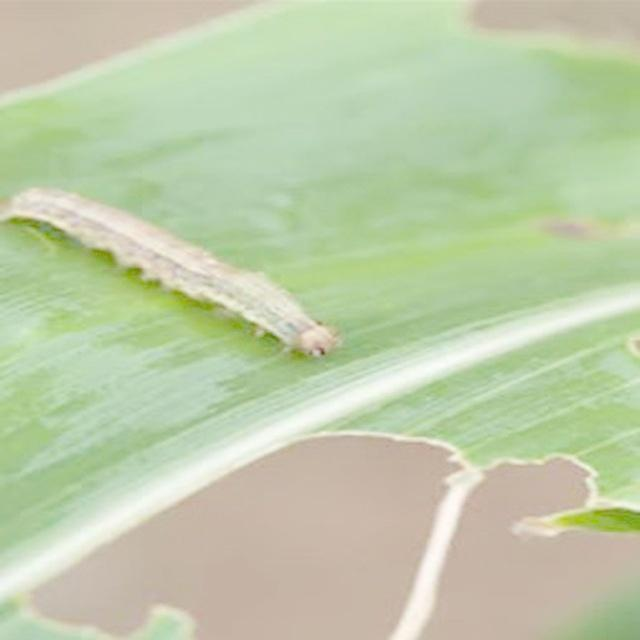gusano_cogollero: (0, 179, 339, 364)
